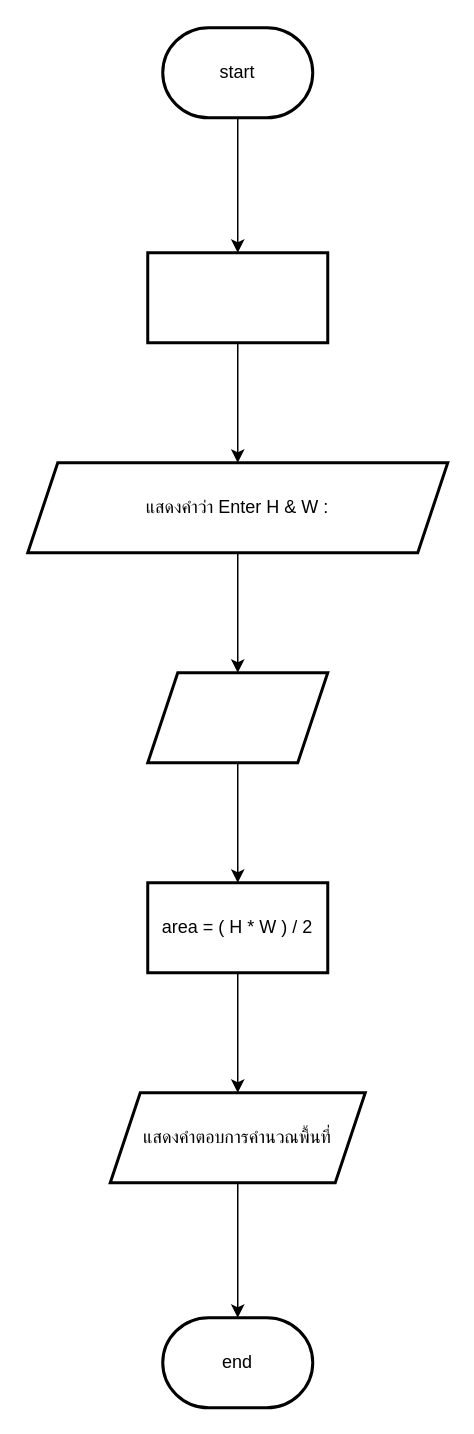
Image size: 474x1434. Some labels were removed from this diagram. Here are the shapes that lost their labels. From the top down, the centre of each, then its label:
At point (237, 297): "float H ; float W ; float area ;".
At point (237, 717): "รับค่า H , W".
